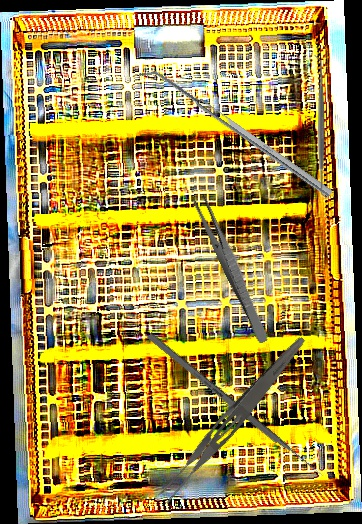Dressing Forceps: (154, 329, 310, 508), (190, 192, 274, 345)
Pusher: (146, 332, 326, 480)
Spatula Surgical: (138, 61, 333, 205), (313, 55, 329, 198)
